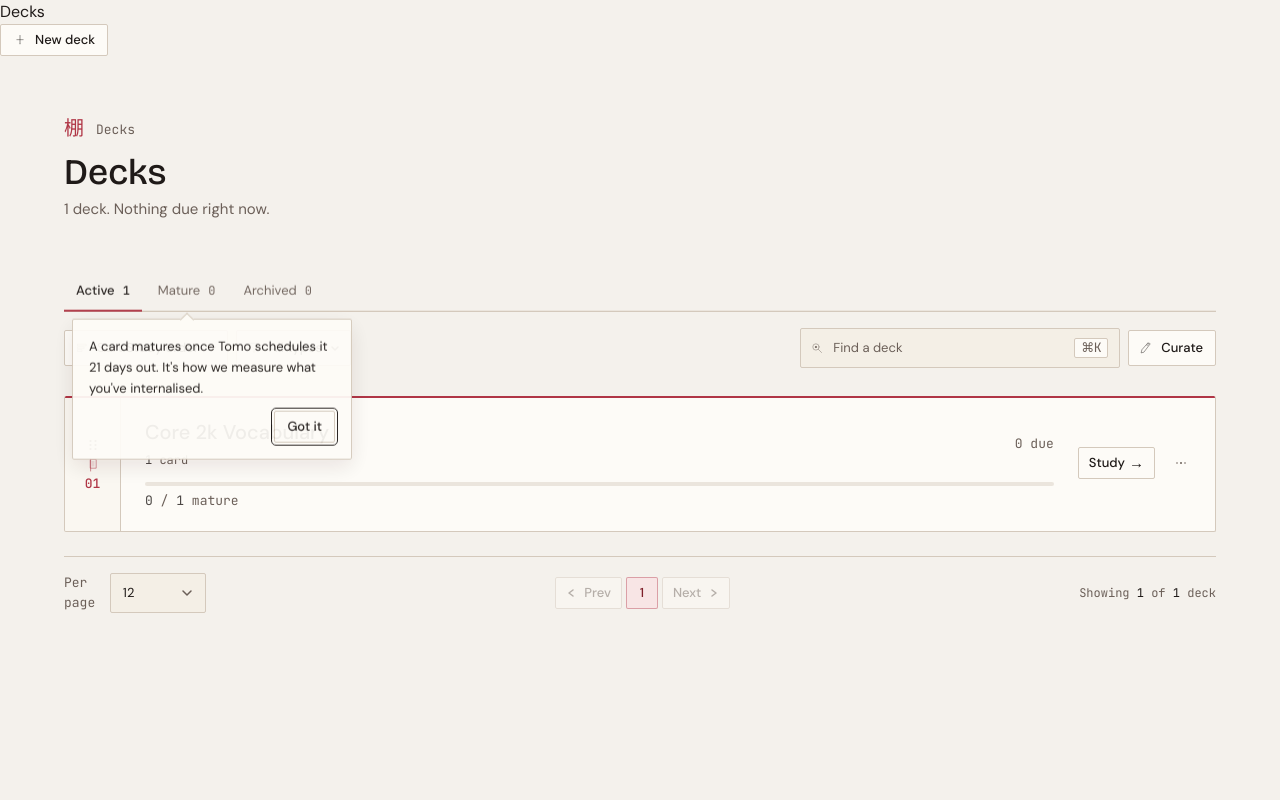
Scenario: deckListView › interactions › opens the Create Deck dialog when the 'New deck' top-bar action is clicked
Click the button "New deck" at (54, 40), box left=0, top=24, right=108, bottom=56
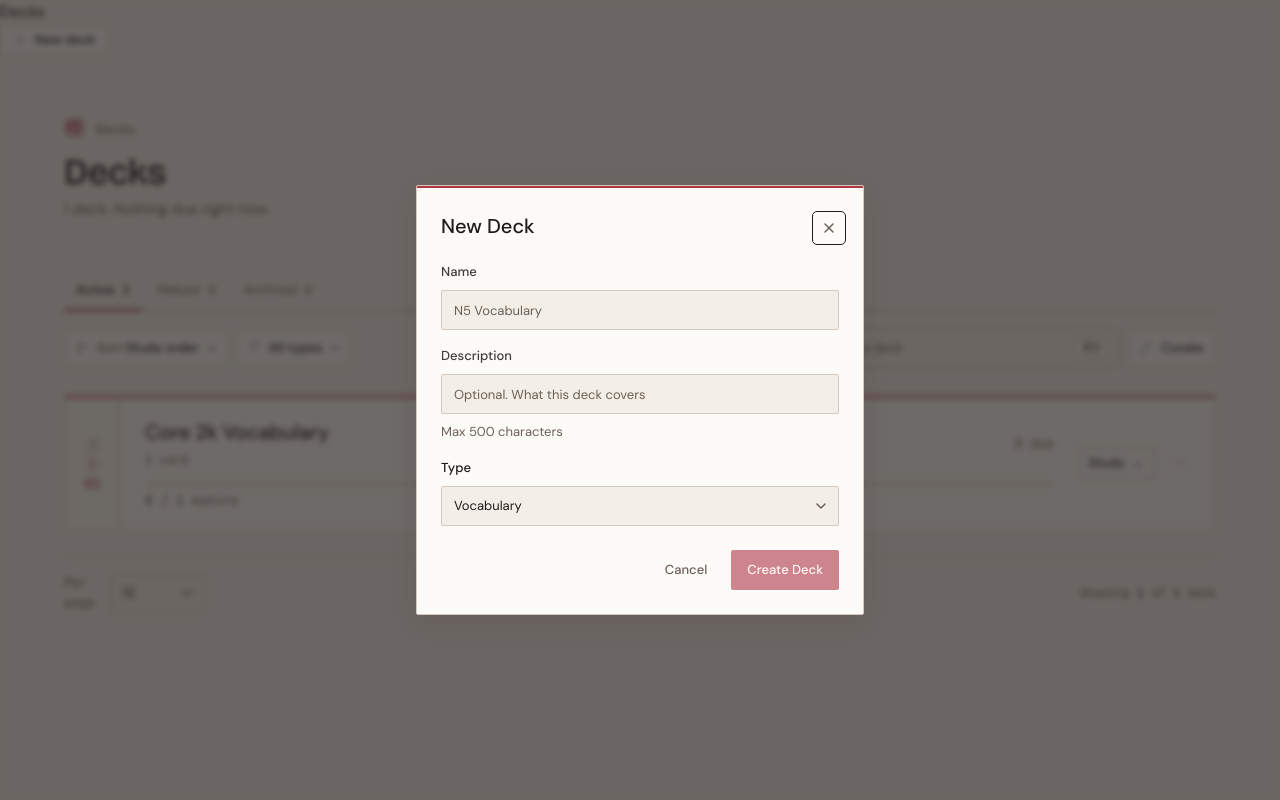
Now the heading "New Deck" is shown, box left=441, top=214, right=535, bottom=239
